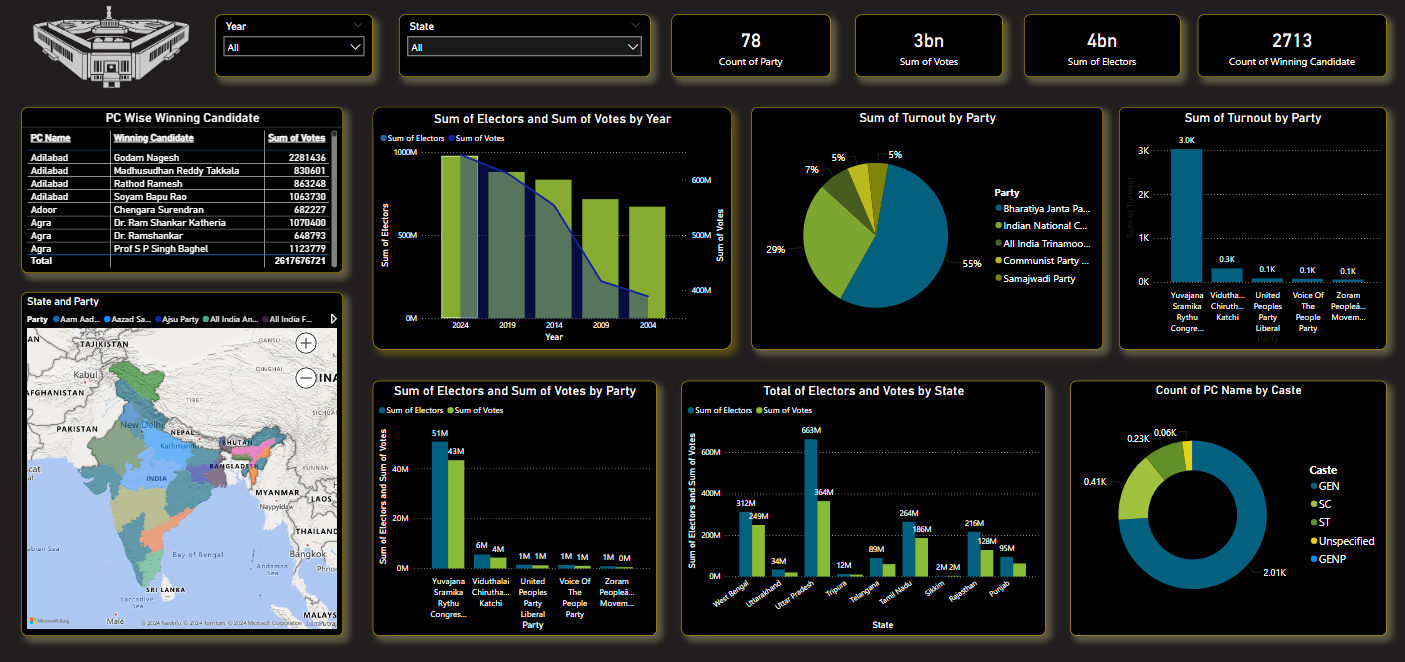

What the dashboard file says about the page in this screenshot:
{"tool":"powerbi","page":{"name":"Page 2","canvas":[2250,1070],"ordinal":0},"visuals":[{"type":"clusteredColumnChart","title":"Total of Electors and Votes by State","fields":{"Y":["Sum(Final_Election_Data (2004-2024)_sys.Electors)","Sum(Final_Election_Data (2004-2024)_sys.Votes)"],"Category":["Final_Election_Data (2004-2024)_sys.State"]},"box":[1092,614,582,408],"z":0},{"type":"pieChart","fields":{"Category":["Final_Election_Data (2004-2024)_sys.Party"],"Y":["Sum(Final_Election_Data (2004-2024)_sys.Turnout)"]},"box":[1204,176,562,388],"z":1000},{"type":"donutChart","fields":{"Category":["Final_Election_Data (2004-2024)_sys.Caste"],"Y":["CountNonNull(Final_Election_Data (2004-2024)_sys.PC Name)"]},"box":[1714,614,506,408],"z":2000},{"type":"clusteredColumnChart","fields":{"Category":["Final_Election_Data (2004-2024)_sys.Party"],"Y":["Sum(Final_Election_Data (2004-2024)_sys.Electors)","Sum(Final_Election_Data (2004-2024)_sys.Votes)"]},"box":[598,614,454,408],"z":3000},{"type":"slicer","fields":{"Values":["Final_Election_Data (2004-2024)_sys.Year"]},"box":[272.5,28.7,277.9,98.6],"z":4000},{"type":"slicer","fields":{"Values":["Final_Election_Data (2004-2024)_sys.State"]},"box":[598.8,28.7,442.8,98.6],"z":5000},{"type":"card","fields":{"Values":["Sum(Final_Election_Data (2004-2024)_sys.Electors)"]},"box":[1640,28,250,100],"z":6000},{"type":"card","fields":{"Values":["Sum(Final_Election_Data (2004-2024)_sys.Votes)"]},"box":[1370,28,236,100],"z":7000},{"type":"filledMap","fields":{"Category":["Final_Election_Data (2004-2024)_sys.State"],"Series":["Final_Election_Data (2004-2024)_sys.Party"]},"box":[36,472,514,550],"z":8000},{"type":"card","fields":{"Values":["Count(Final_Election_Data (2004-2024)_sys.Party)"]},"box":[1076,28,254,100],"z":9000},{"type":"clusteredColumnChart","fields":{"Category":["Final_Election_Data (2004-2024)_sys.Party"],"Y":["Sum(Final_Election_Data (2004-2024)_sys.Turnout)"]},"box":[1792,176,428,388],"z":10000},{"type":"lineStackedColumnComboChart","fields":{"Category":["Final_Election_Data (2004-2024)_sys.Year"],"Y":["Sum(Final_Election_Data (2004-2024)_sys.Electors)"],"Y2":["Sum(Final_Election_Data (2004-2024)_sys.Votes)"]},"box":[598,176,574,388],"z":11000},{"type":"card","fields":{"Values":["CountNonNull(Final_Election_Data (2004-2024)_sys.Winning Candidate)"]},"box":[1918,28,302,100],"z":12000},{"type":"tableEx","title":"PC Wise Winning Candidate","fields":{"Values":["Final_Election_Data (2004-2024)_sys.PC Name","Final_Election_Data (2004-2024)_sys.Winning Candidate","Sum(Final_Election_Data (2004-2024)_sys.Votes)"]},"box":[36.1,176.9,514.3,265.3],"z":13000},{"type":"image","box":[35.9,28.7,206.2,121.9],"z":14000}]}

Visuals, with their boxes in screenshot pixels (x1, y1, x2, y2), scaled from the page's 2250x1070 canvas onto the 1405x662 screenshot:
"Total of Electors and Votes by State" clusteredColumnChart: (left=682, top=380, right=1045, bottom=632)
pieChart - Final_Election_Data (2004-2024)_sys.Party x Sum(Final_Election_Data (2004-2024)_sys.Turnout): (left=752, top=109, right=1103, bottom=349)
donutChart - Final_Election_Data (2004-2024)_sys.Caste x CountNonNull(Final_Election_Data (2004-2024)_sys.PC Name): (left=1070, top=380, right=1386, bottom=632)
clusteredColumnChart - Final_Election_Data (2004-2024)_sys.Party x Sum(Final_Election_Data (2004-2024)_sys.Electors): (left=373, top=380, right=657, bottom=632)
slicer - Final_Election_Data (2004-2024)_sys.Year: (left=170, top=18, right=344, bottom=79)
slicer - Final_Election_Data (2004-2024)_sys.State: (left=374, top=18, right=650, bottom=79)
card - Sum(Final_Election_Data (2004-2024)_sys.Electors): (left=1024, top=17, right=1180, bottom=79)
card - Sum(Final_Election_Data (2004-2024)_sys.Votes): (left=855, top=17, right=1003, bottom=79)
filledMap - Final_Election_Data (2004-2024)_sys.State x Final_Election_Data (2004-2024)_sys.Party: (left=22, top=292, right=343, bottom=632)
card - Count(Final_Election_Data (2004-2024)_sys.Party): (left=672, top=17, right=831, bottom=79)
clusteredColumnChart - Final_Election_Data (2004-2024)_sys.Party x Sum(Final_Election_Data (2004-2024)_sys.Turnout): (left=1119, top=109, right=1386, bottom=349)
lineStackedColumnComboChart - Final_Election_Data (2004-2024)_sys.Year x Sum(Final_Election_Data (2004-2024)_sys.Electors): (left=373, top=109, right=732, bottom=349)
card - CountNonNull(Final_Election_Data (2004-2024)_sys.Winning Candidate): (left=1198, top=17, right=1386, bottom=79)
"PC Wise Winning Candidate" tableEx: (left=23, top=109, right=344, bottom=274)
image: (left=22, top=18, right=151, bottom=93)
